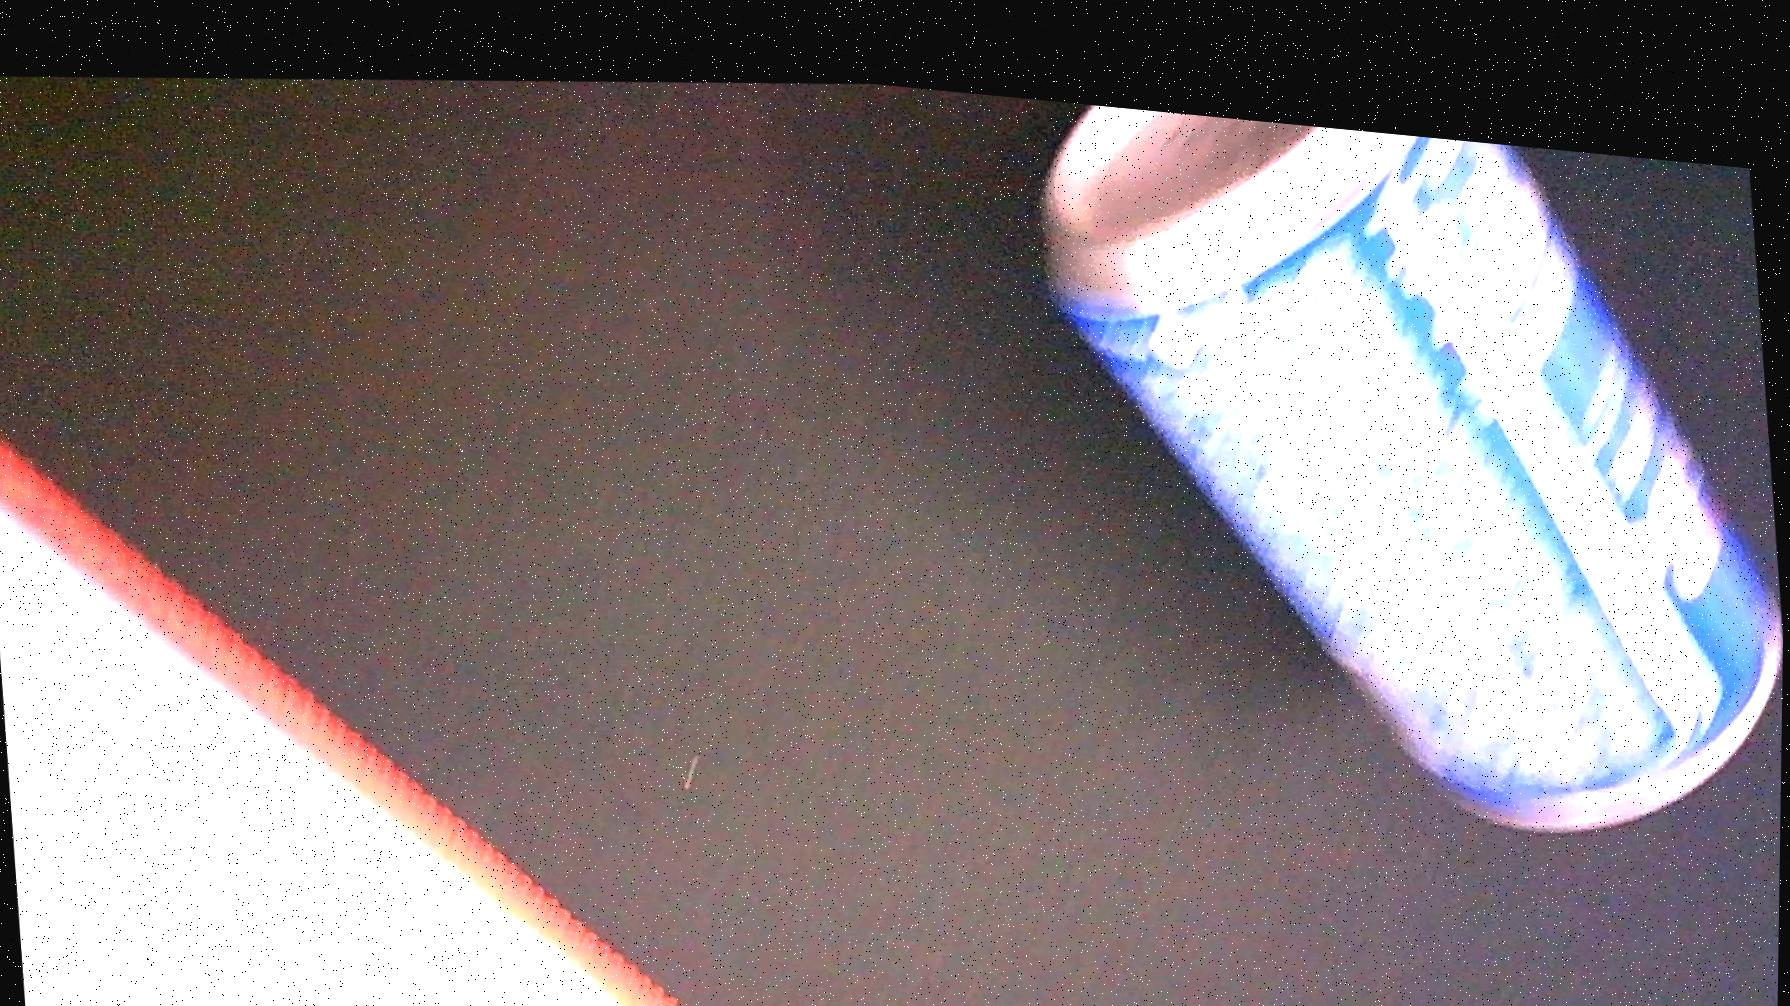letsbe: (1018, 77, 1790, 862)
